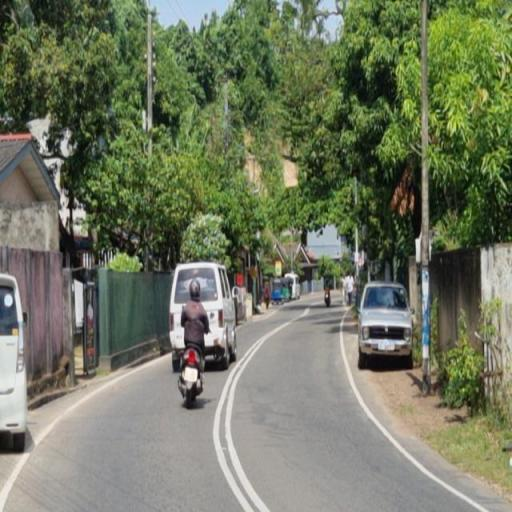double_white_line: (213, 313, 271, 512)
